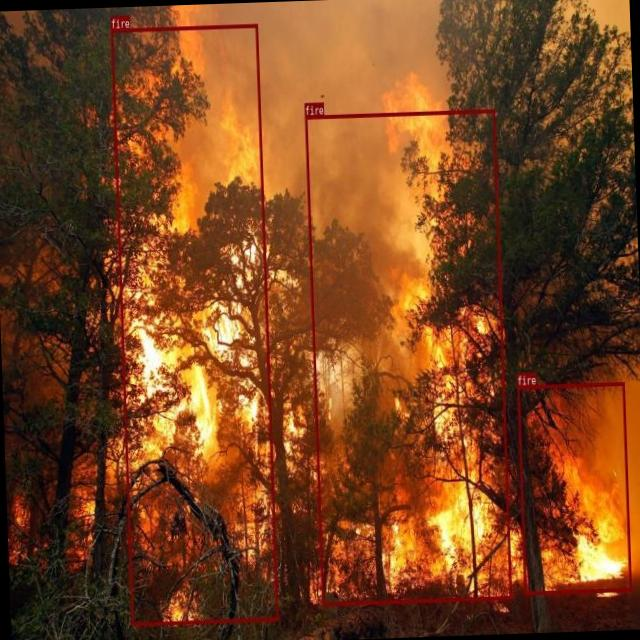fire: (304, 109, 511, 605), (110, 23, 278, 625), (516, 382, 630, 594)
